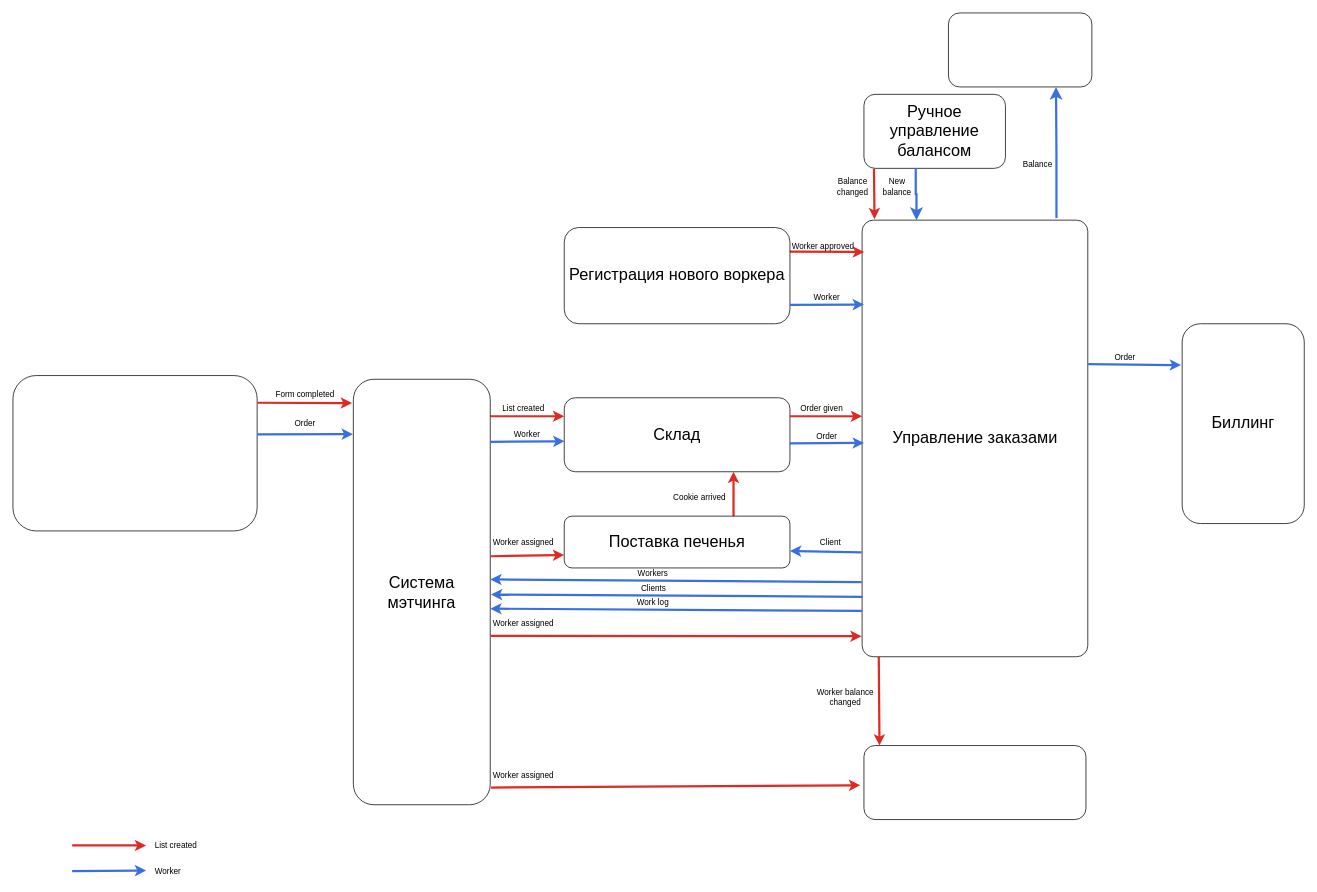
Some shapes in this 1317 by 892 pixel diagram are drawn without their labels. The centre of each missing label's shape, as x and y in pixels:
"Заказ услуг и администрирование типов" goes at [134,453].
"Мониторинг заказов" goes at [1020,49].
"Система ставок" goes at [974,782].
